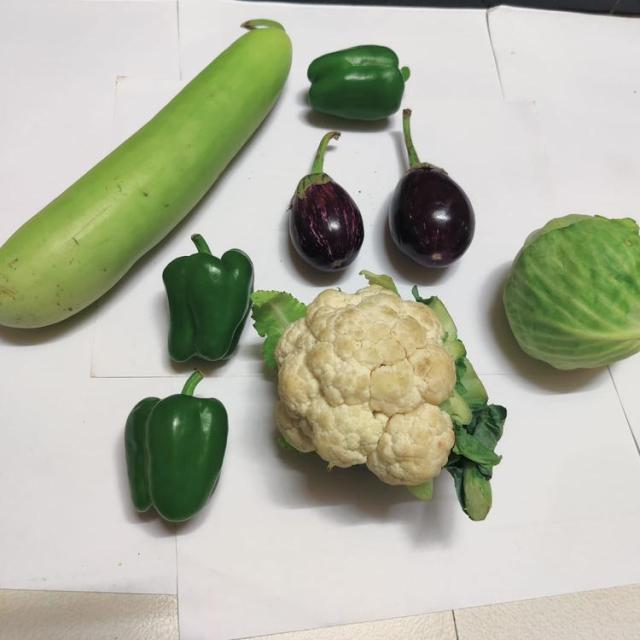Organik: (0, 13, 298, 244), (272, 279, 507, 518), (498, 205, 640, 383), (120, 372, 230, 536), (392, 108, 486, 276), (274, 132, 372, 274), (157, 232, 260, 366), (304, 42, 412, 128)
